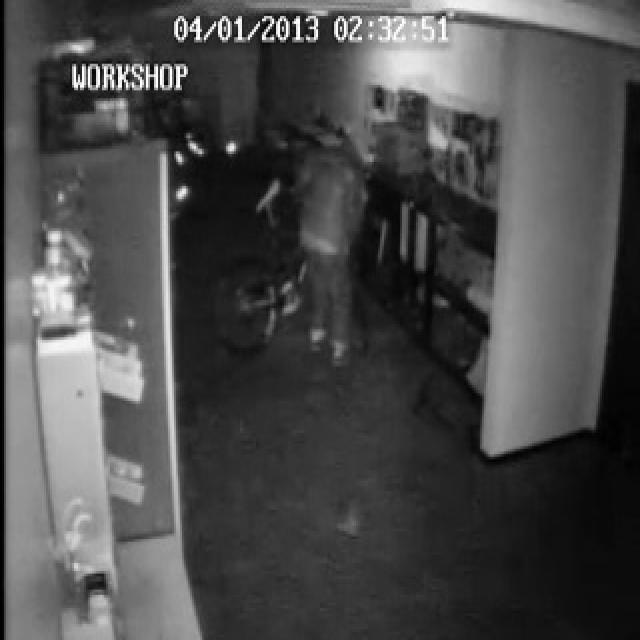thief: (314, 116, 379, 331)
